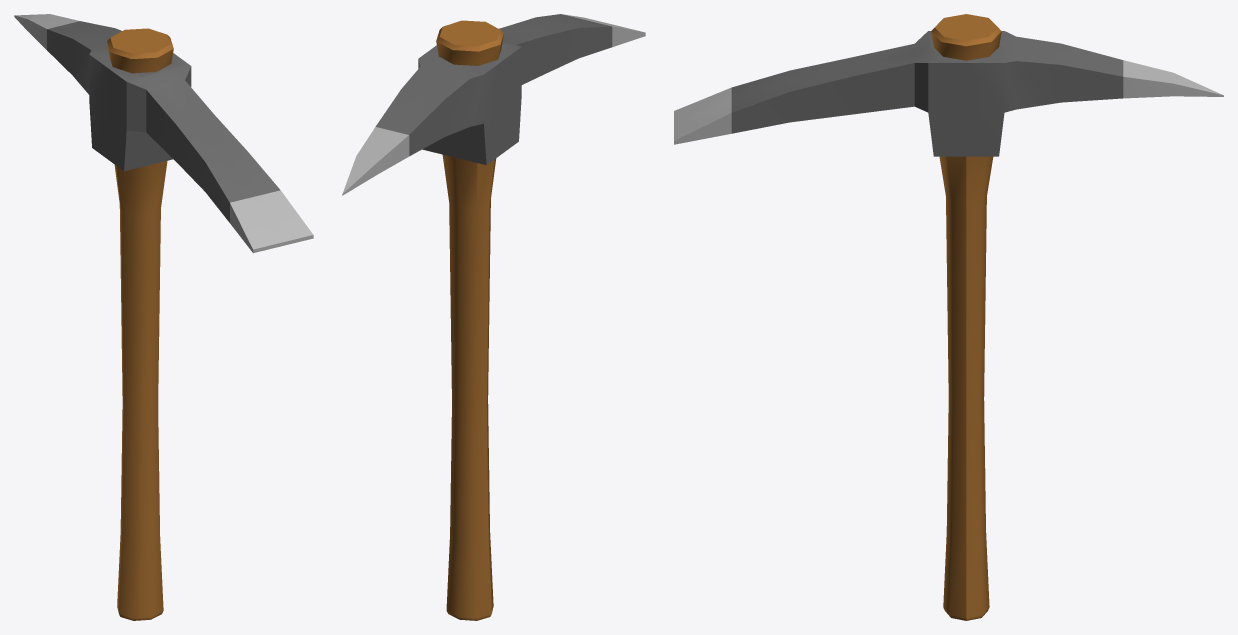
The model's file is low_poly_pickaxe.glb.
3 renders of one model, left to right at view 1: azimuth 30°, elevation 25°; view 2: azimuth 150°, elevation 25°; view 3: azimuth 270°, elevation 25°, orthographic. The views are drawn at different scales.
Parts seen in each view (by area): view 1: Cube.002; view 2: Cube.002; view 3: Cube.002.
Boxes of the visible parts, x1,y1,x2,y2 form: Cube.002: [14, 14, 313, 620]; Cube.002: [342, 14, 645, 620]; Cube.002: [674, 14, 1223, 620].
Bounding box in the file's own units: 0.0891 × 0.7527 × 0.6426.
1 material, 1 textured.
